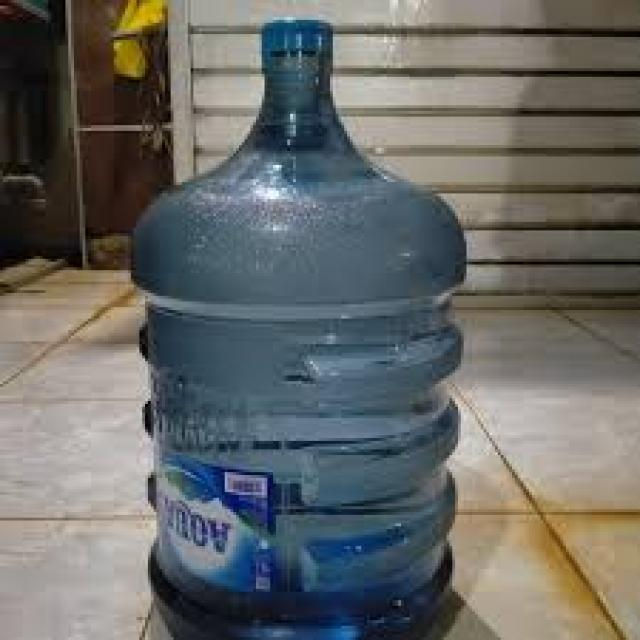Galon: (128, 15, 469, 634)
